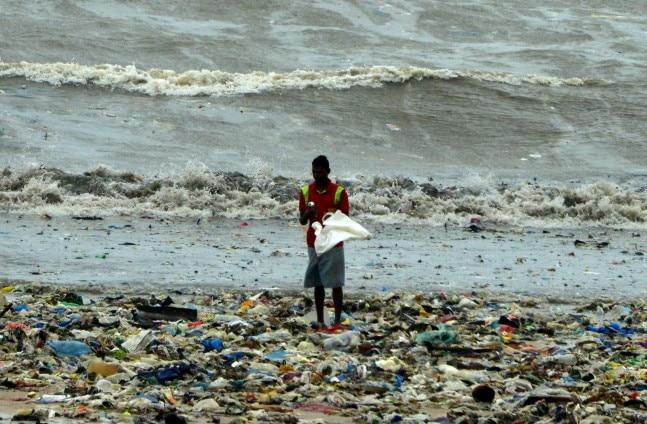garbage: (0, 288, 647, 424)
